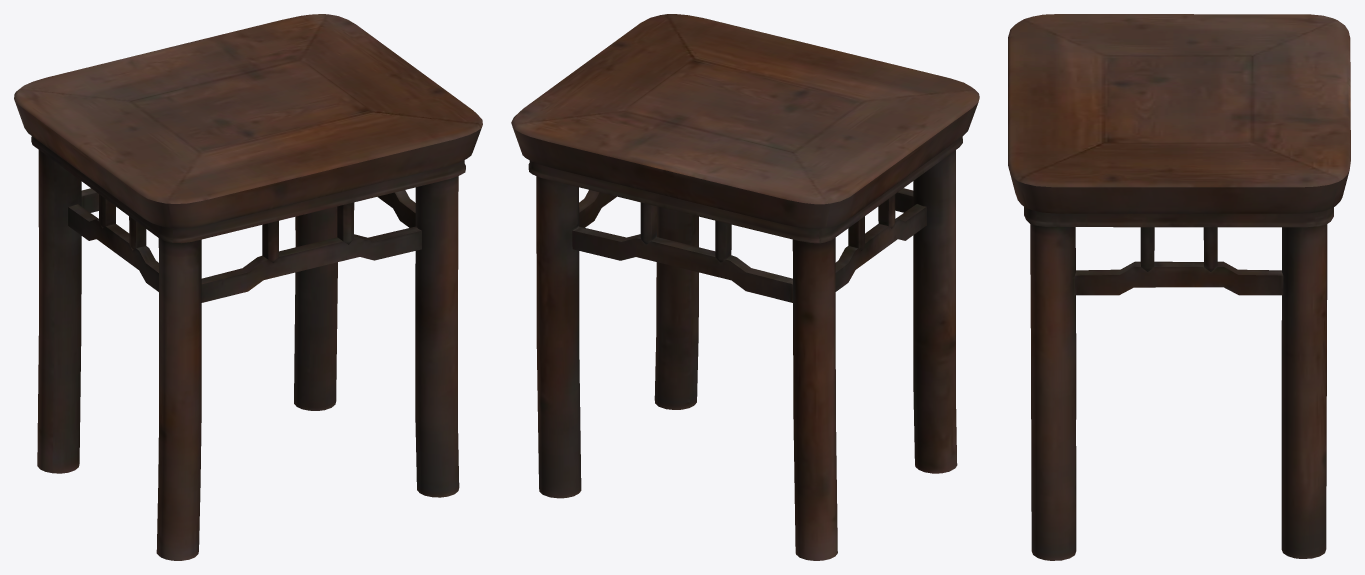
The model's file is chinese_stool.glb.
3 renders of one model, left to right at view 1: azimuth 30°, elevation 25°; view 2: azimuth 150°, elevation 25°; view 3: azimuth 270°, elevation 25°, orthographic. The views are drawn at different scales.
Visible parts, largest first — view 1: chinese_stool; view 2: chinese_stool; view 3: chinese_stool.
Part boxes in pixels (x1,y1,x2,y2): chinese_stool: (14,14,482,560); chinese_stool: (511,14,979,560); chinese_stool: (1008,14,1350,560).
Size of the model in its own units: 0.599 by 0.6306 by 0.5064.
1 material, 1 textured.
